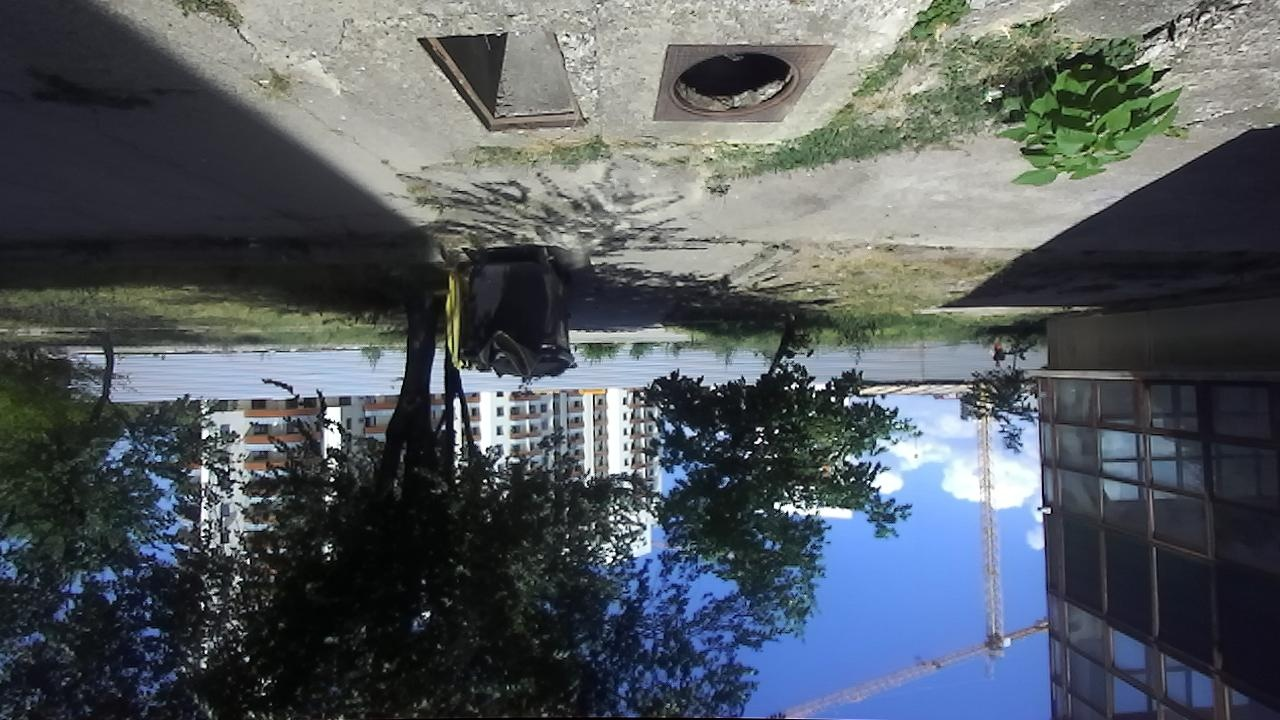drain: (411, 31, 588, 135), (667, 45, 800, 119)
